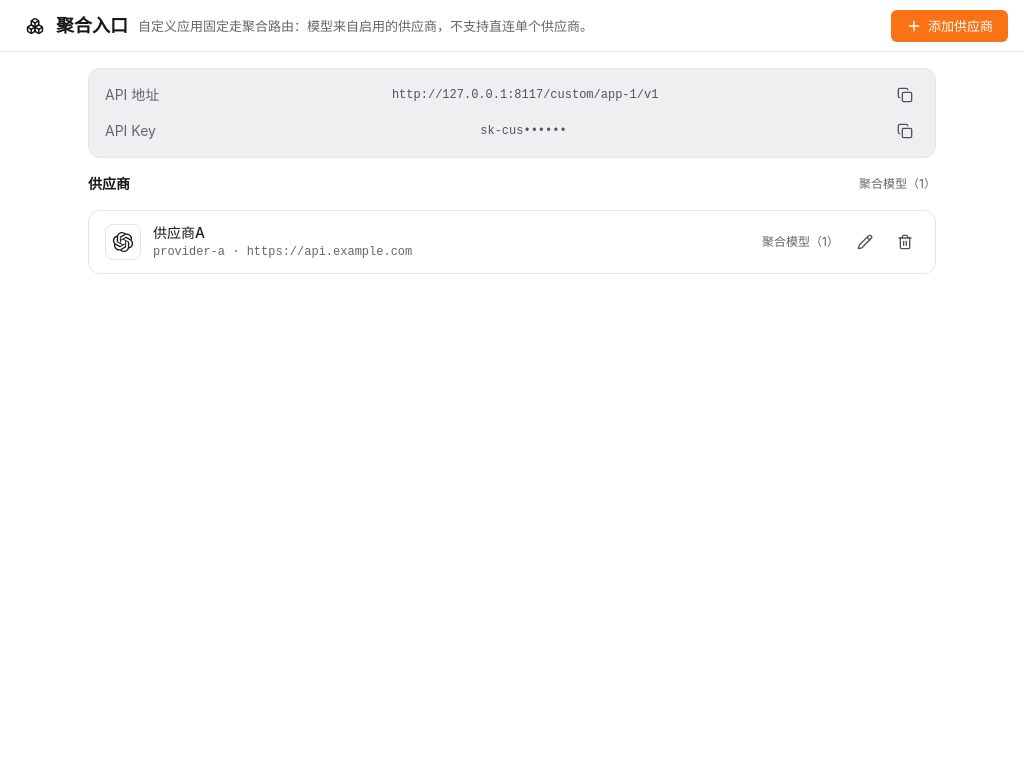
Test: CustomAppProvidersPage 新建供应商 › 点击添加供应商打开弹窗，slug 自动派生且转为小写
Click the button "添加供应商" at (950, 26), box [891,10,1008,42]
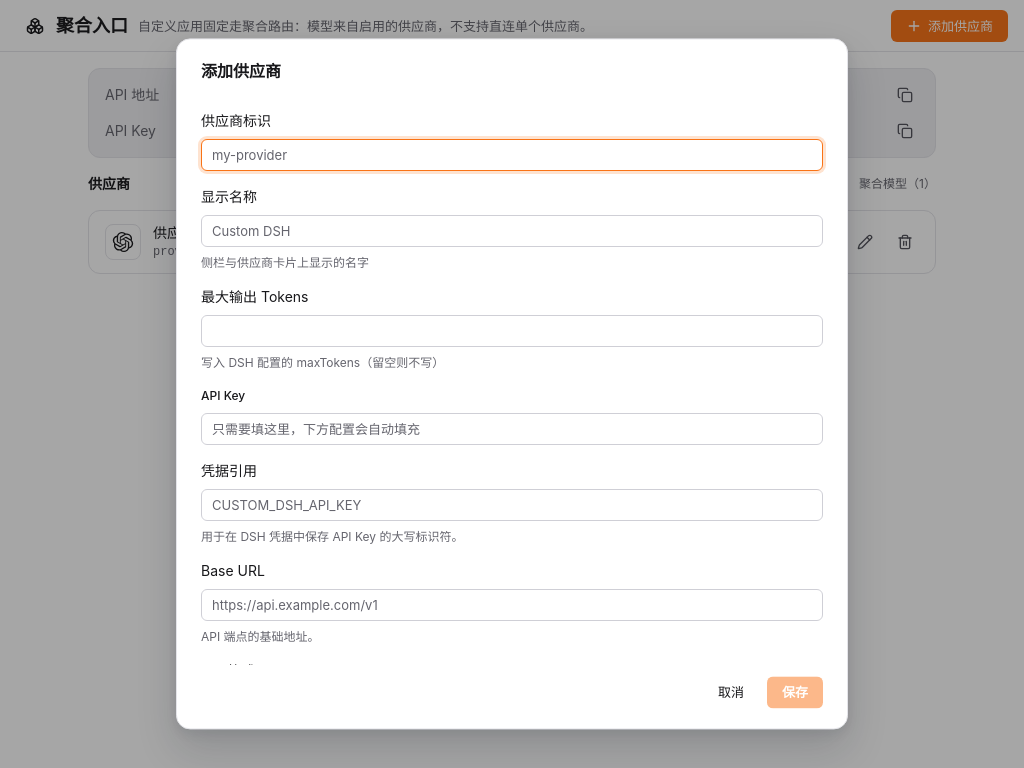
Type "My Provider" into the field labelled "显示名称" at (512, 231), box [201,215,823,247]
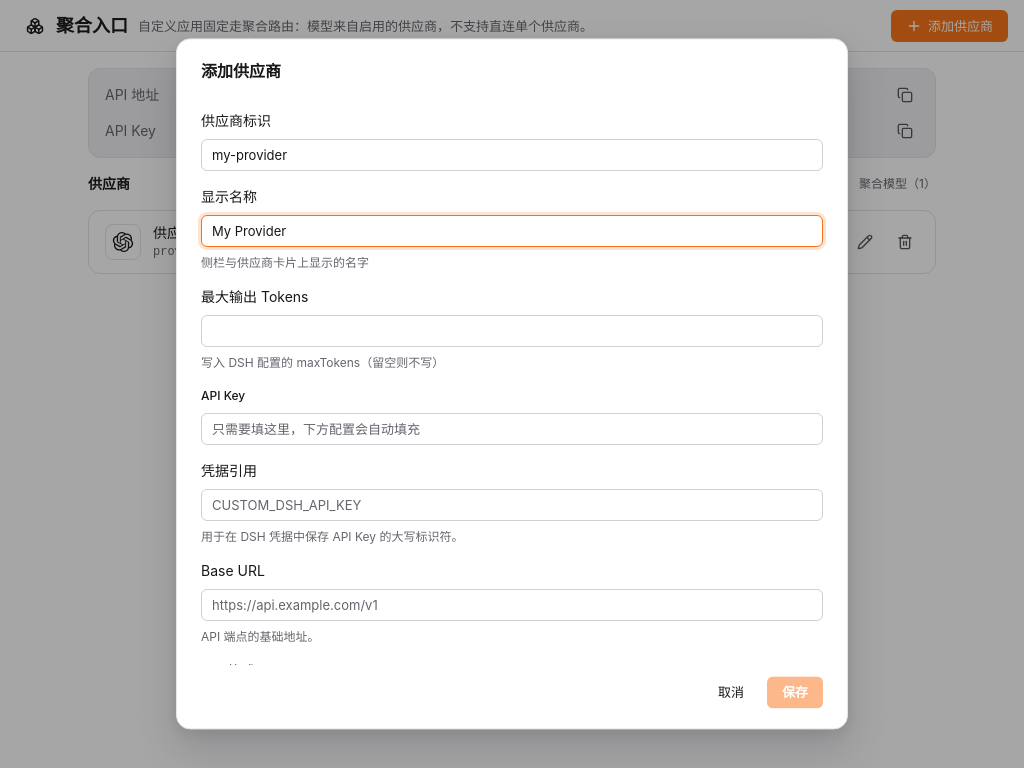
Expected: the field labelled "供应商标识" holds "my-provider", [201,139,823,171]
